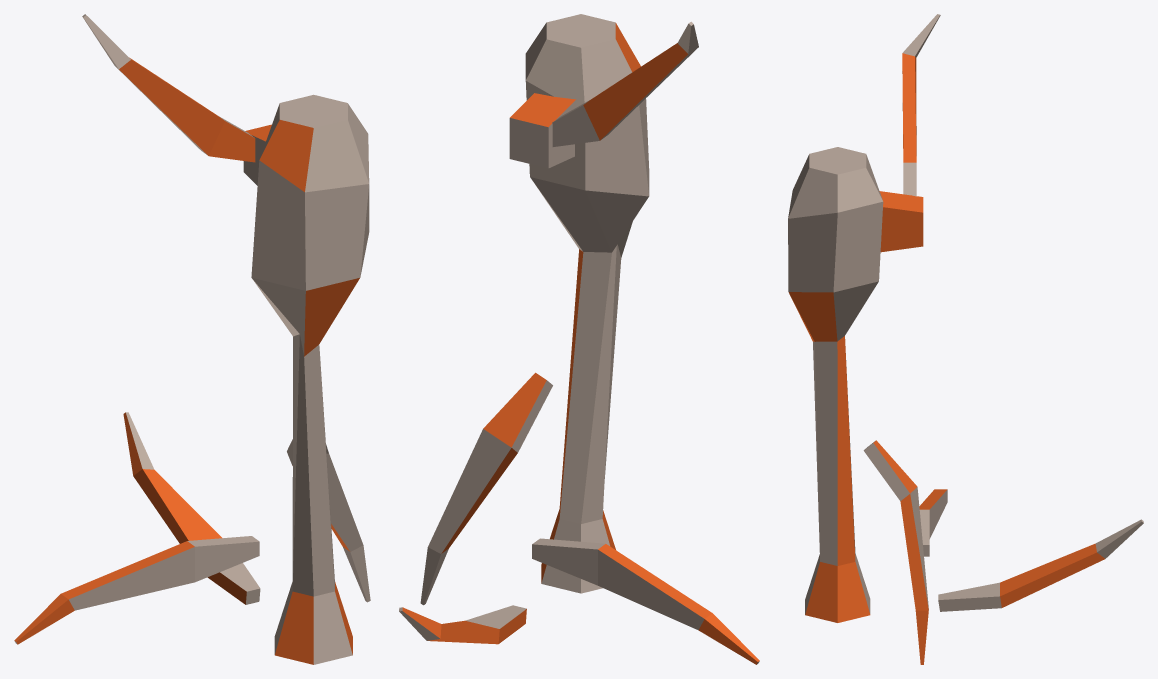
Rendered from WindTurbine.003.fbx.
3 views of the same model, side by side, from view 1: azimuth 30°, elevation 25°; view 2: azimuth 150°, elevation 25°; view 3: azimuth 270°, elevation 25° (orthographic). The views are drawn at different scales.
Parts seen in each view (by area): view 1: WindTurbine.003_LOD0; view 2: WindTurbine.003_LOD0; view 3: WindTurbine.003_LOD0.
Boxes of the visible parts, bbox=[...] form: WindTurbine.003_LOD0: bbox=[14, 14, 370, 664]; WindTurbine.003_LOD0: bbox=[399, 14, 759, 664]; WindTurbine.003_LOD0: bbox=[788, 14, 1143, 664].
Size of what is drawn, in the model's own units: 30734 by 55312 by 33051.
